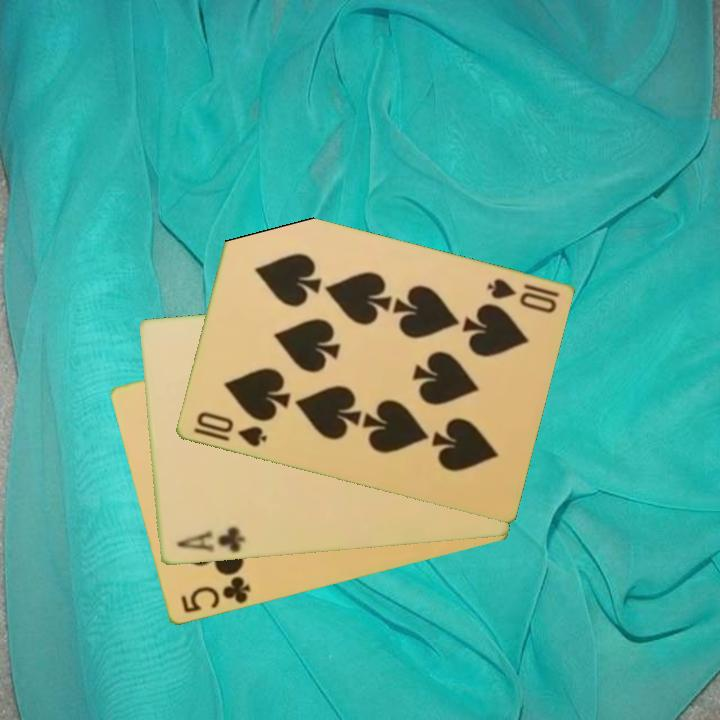10s: (189, 408, 270, 450), (482, 275, 562, 317)
5c: (177, 573, 253, 617)
Ac: (172, 524, 248, 556)
